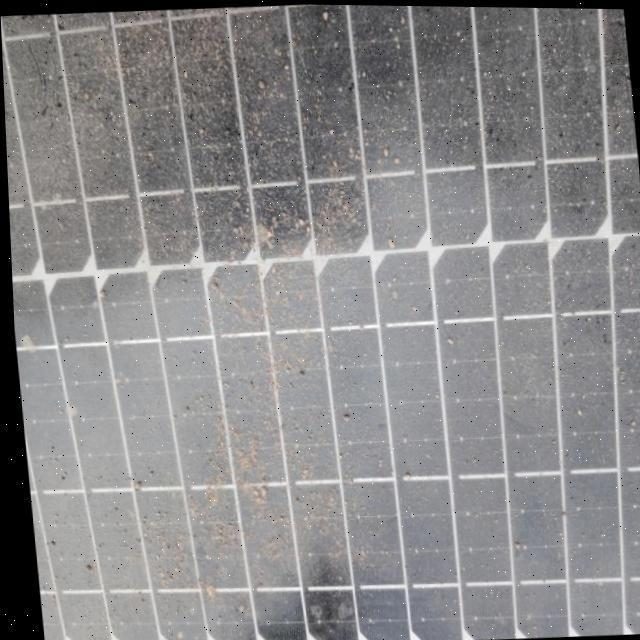Surface Contaminant: (1, 4, 640, 640)
